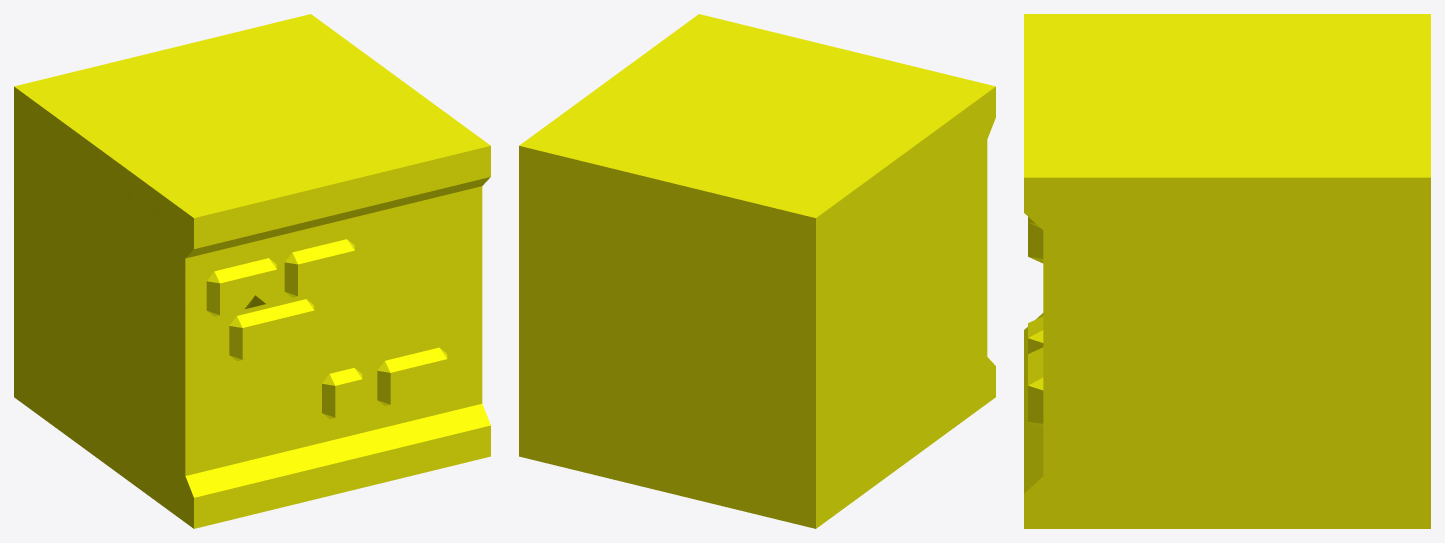
File: kaykit-floor-foundation-front.glb
The picture shows the model from 3 angles, left to right: view 1: azimuth 30°, elevation 25°; view 2: azimuth 150°, elevation 25°; view 3: azimuth 270°, elevation 25°; orthographic projection. The views are drawn at different scales.
Visible parts, largest first — view 1: floor_foundation_front; view 2: floor_foundation_front; view 3: floor_foundation_front.
Part boxes in pixels (x1,y1,x2,y2): floor_foundation_front: [14, 14, 490, 528]; floor_foundation_front: [519, 14, 995, 528]; floor_foundation_front: [1024, 14, 1430, 528].
Bounding box in the file's own units: 2 × 2 × 2.1.
